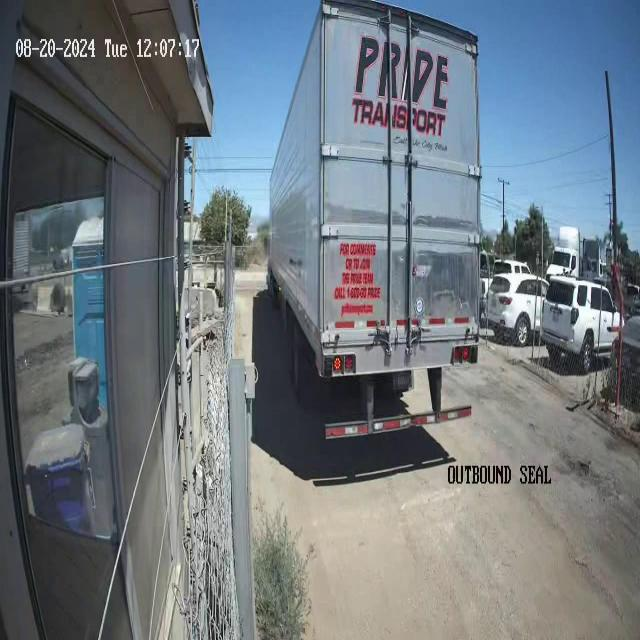TRUCK_CONTAINER: (264, 1, 482, 436)
